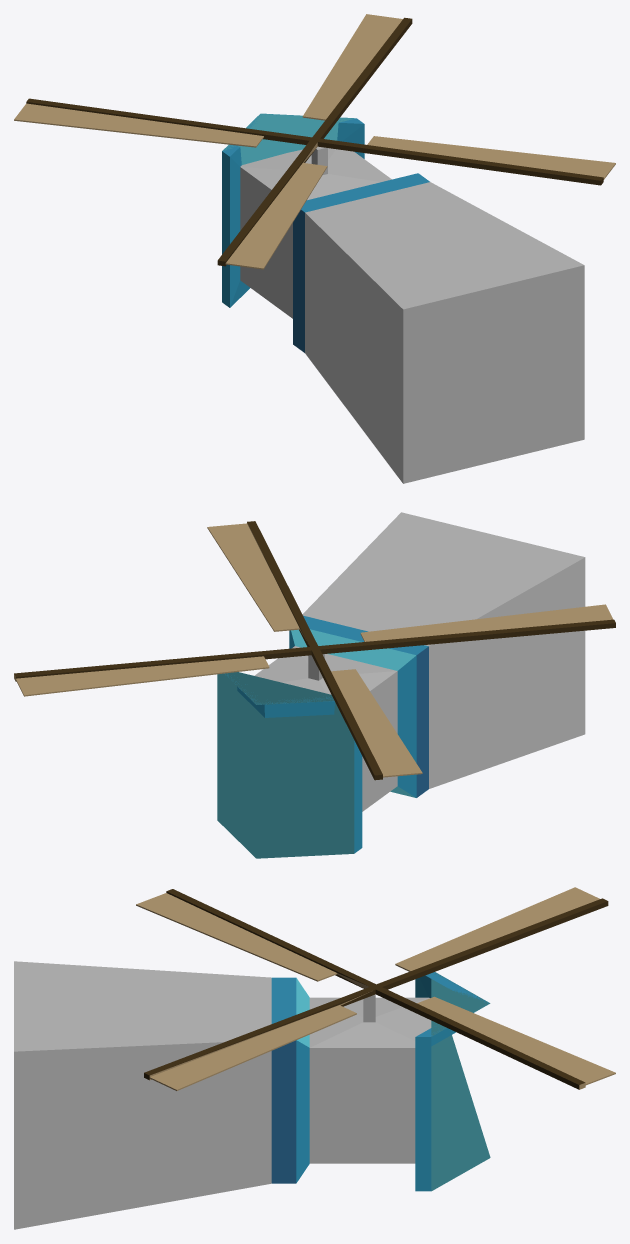
The model's file is windmill.fbx.
3 renders of one model, top to bottom at view 1: azimuth 30°, elevation 25°; view 2: azimuth 150°, elevation 25°; view 3: azimuth 270°, elevation 25°, orthographic. The views are drawn at different scales.
Parts seen in each view (by area): view 1: windmill; view 2: windmill; view 3: windmill.
Boxes of the visible parts, bbox=[...] form: windmill: bbox=[14, 14, 615, 483]; windmill: bbox=[14, 512, 615, 858]; windmill: bbox=[14, 887, 615, 1229].
Size of the model in its own units: 202 by 91.62 by 254.
